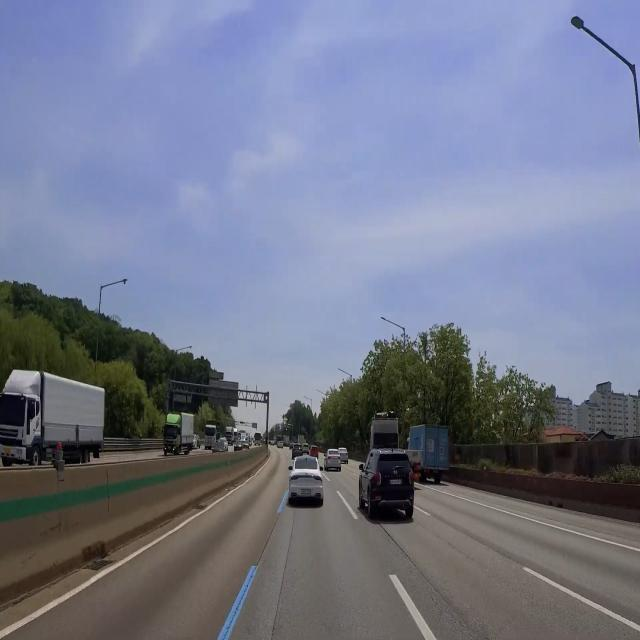car: (298, 487, 315, 499), (390, 476, 404, 488)
